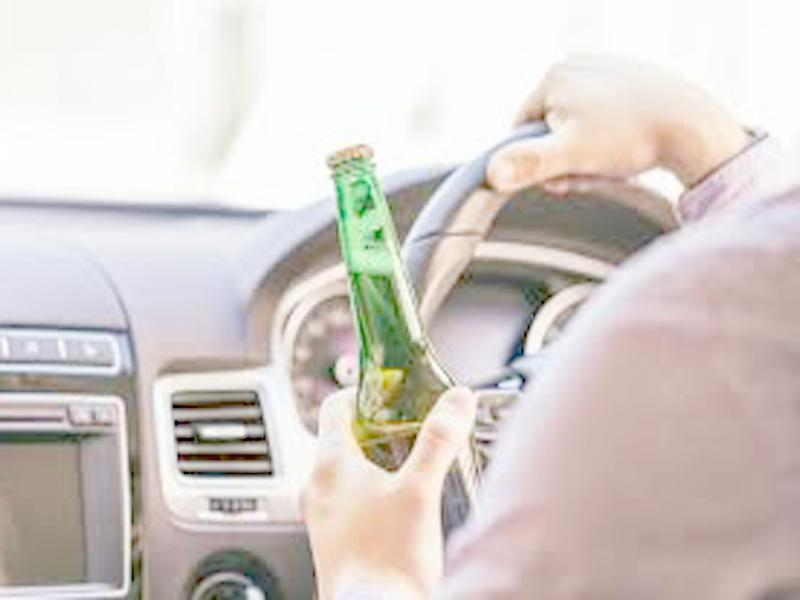Beer: (324, 141, 489, 580)
